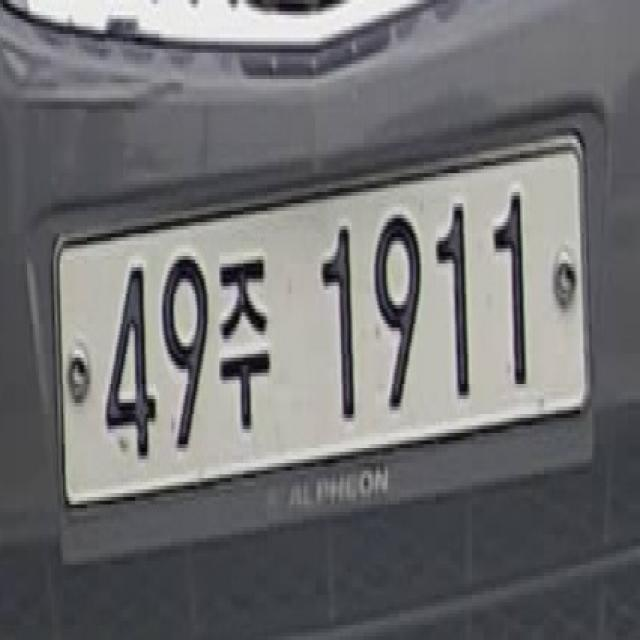1: (316, 193, 357, 440), (435, 202, 478, 412), (491, 187, 534, 397)
4: (98, 252, 157, 464)
9: (372, 205, 424, 416), (161, 247, 210, 452)
ju: (216, 233, 276, 452)
license_plate: (46, 104, 593, 572)
